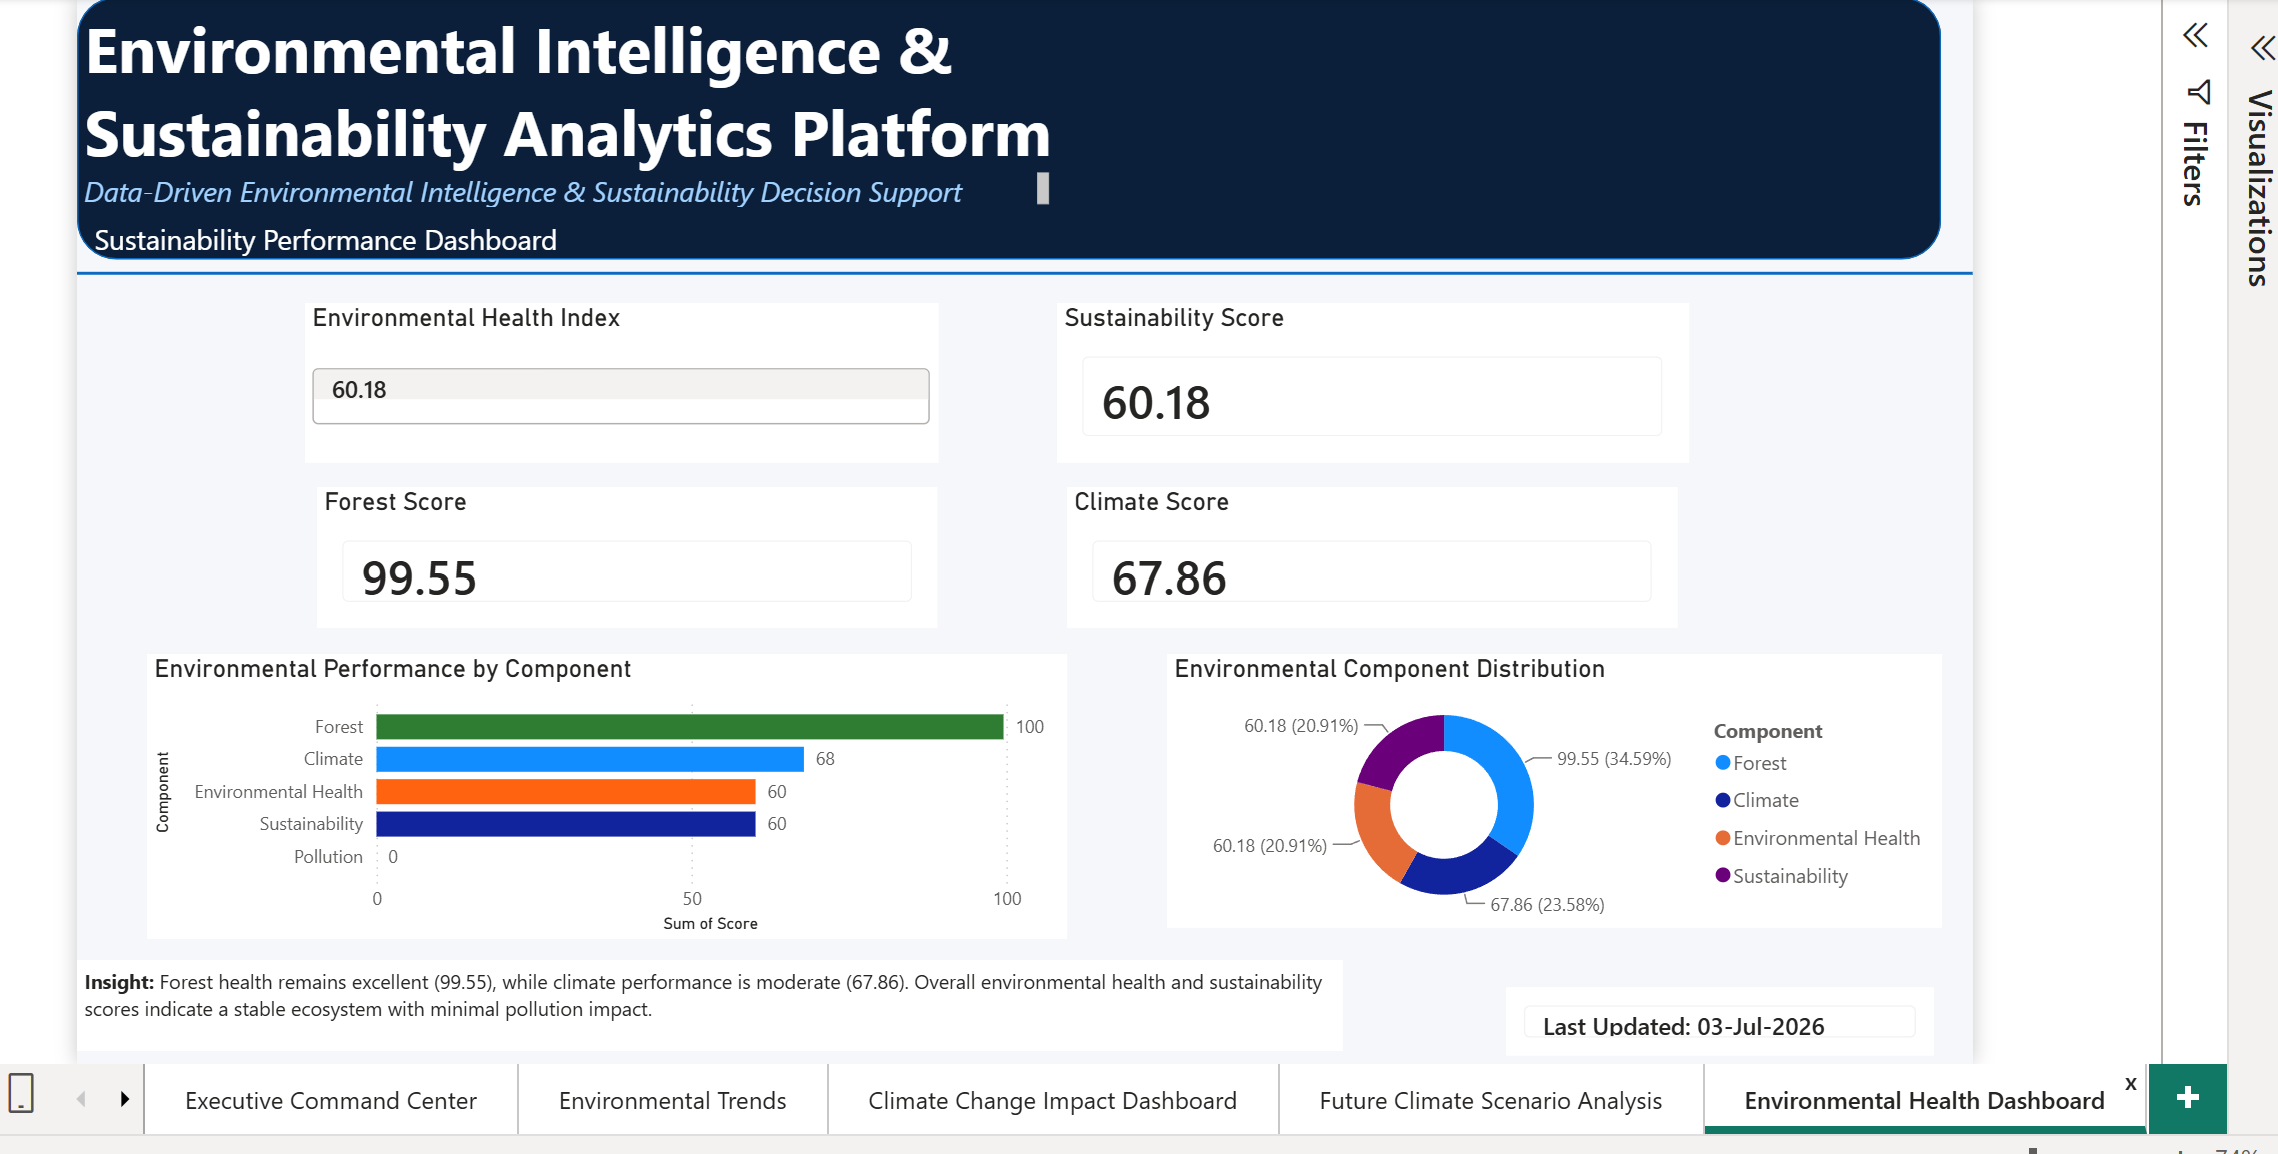

The page's visual inventory and layout, read from the dashboard file:
{"tool":"powerbi","page":{"name":"Environmental Health Dashboard","canvas":[1280,720],"ordinal":4},"visuals":[{"type":"textbox","box":[0,0,829.1,68.3],"z":0},{"type":"textbox","box":[7.1,55.9,508.1,43.4],"z":1000},{"type":"cardVisual","fields":{"Data":["dashboard_master_dataset.Dashboard Date"]},"box":[940.8,663.3,339.6,56.7],"z":2000},{"type":"shape","box":[0,112.6,1280.4,149],"z":3000},{"type":"textbox","box":[0,649.7,855,61.3],"z":4000},{"type":"shape","box":[0,0,1259.1,177.3],"z":5000},{"type":"textbox","box":[0,0,840.6,125],"z":6000},{"type":"textbox","box":[7.1,145.4,508.1,43.4],"z":7000},{"type":"cardVisual","fields":{"Data":["dashboard_master_dataset.Dashboard Date"]},"box":[940.4,663.3,339.6,56.7],"z":8000},{"type":"textbox","box":[0,112.8,661.4,33.1],"z":9000},{"type":"cardVisual","title":"Environmental Health Index","fields":{"Rows":["dashboard_master_dataset.environmental_health_index"]},"box":[153.7,207.2,428,108],"z":10000},{"type":"cardVisual","title":"Sustainability Score","fields":{"Data":["Sum(dashboard_master_dataset.sustainability_score)"]},"box":[661.4,207.2,427,108],"z":11000},{"type":"cardVisual","title":"Forest Score","fields":{"Data":["Sum(dashboard_master_dataset.forest_score)"]},"box":[162.4,330.7,419.2,94.3],"z":12000},{"type":"cardVisual","title":"Climate Score","fields":{"Data":["Sum(dashboard_master_dataset.climate_score)"]},"box":[669.2,330.7,412.4,94.3],"z":13000},{"type":"clusteredBarChart","title":"Environmental Performance by Component","fields":{"Category":["Environmental Scores.Component"],"Y":["Sum(Environmental Scores.Score)"]},"box":[47.7,442.6,621.5,192.6],"z":14000},{"type":"donutChart","title":"Environmental Component Distribution","fields":{"Category":["Environmental Scores.Component"],"Y":["Sum(Environmental Scores.Score)"]},"box":[736.3,442.6,523.3,184.8],"z":15000}]}

Visuals, with their boxes on the page's 1280x720 design canvas (x1, y1, x2, y2). These are canvas units, not pixel positions in the 2278x1154 screenshot, which may show the page scaled, cropped or inside an application window:
textbox: (0,0,829,68)
textbox: (7,56,515,99)
cardVisual - dashboard_master_dataset.Dashboard Date: (941,663,1280,720)
shape: (0,113,1280,262)
textbox: (0,650,855,711)
shape: (0,0,1259,177)
textbox: (0,0,841,125)
textbox: (7,145,515,189)
cardVisual - dashboard_master_dataset.Dashboard Date: (940,663,1280,720)
textbox: (0,113,661,146)
"Environmental Health Index" cardVisual: (154,207,582,315)
"Sustainability Score" cardVisual: (661,207,1088,315)
"Forest Score" cardVisual: (162,331,582,425)
"Climate Score" cardVisual: (669,331,1082,425)
"Environmental Performance by Component" clusteredBarChart: (48,443,669,635)
"Environmental Component Distribution" donutChart: (736,443,1260,627)
